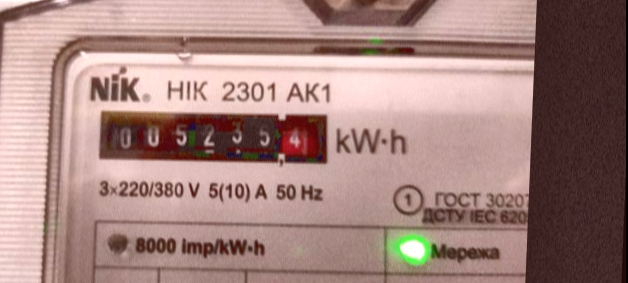0: (116, 123, 132, 148), (144, 122, 160, 147)
2: (199, 120, 216, 147)
3: (226, 118, 244, 144)
4: (284, 121, 303, 150)
5: (254, 118, 271, 147), (172, 120, 187, 146)
screen: (84, 94, 337, 176)
